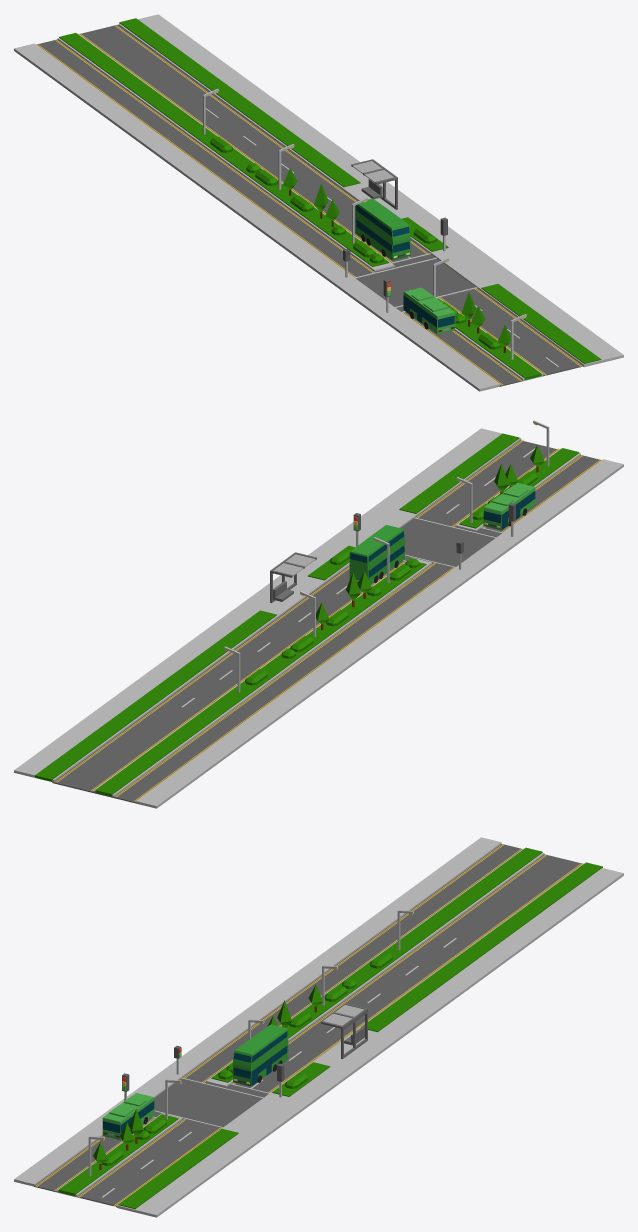
Rendered from L1L2 Street.fbx.
3 views of the same model, one above another, from view 1: azimuth 30°, elevation 25°; view 2: azimuth 150°, elevation 25°; view 3: azimuth 330°, elevation 25° (orthographic).
Visible parts, largest first — view 1: pCube1696, pCube2177, pCube2185, pCube1751, pCube1767, pasted__pCube100, pCube1756, pCube1754, pasted__pCube102, pCube1730, pCube1765; view 2: pCube1696, pCube2177, pCube2185, pCube1751, pCube1767, pasted__pCube100, pCube1756, pCube1754, pasted__pCube102, pCube1730, pCube1765; view 3: pCube1696, pCube2177, pCube2185, pCube1767, pCube1751, pasted__pCube100, pCube1756, pCube1754, pCube1730, pasted__pCube102, pCube1765, pCube1716 (+1 smaller).
Part boxes in pixels (<box>): pCube1696: <box>36,24,583,386</box>; pCube2177: <box>118,14,623,367</box>; pCube2185: <box>14,43,499,391</box>; pCube1751: <box>59,33,389,266</box>; pCube1767: <box>119,18,360,187</box>; pasted__pCube100: <box>355,198,410,260</box>; pCube1756: <box>481,284,601,363</box>; pCube1754: <box>57,33,394,271</box>; pasted__pCube102: <box>403,287,455,334</box>; pCube1730: <box>437,298,541,379</box>; pCube1765: <box>351,159,397,209</box>; pCube1696: <box>52,440,600,803</box>; pCube2177: <box>14,428,521,781</box>; pCube2185: <box>136,459,623,808</box>; pCube1751: <box>95,562,426,796</box>; pCube1767: <box>35,610,276,781</box>; pasted__pCube100: <box>349,525,405,584</box>; pCube1756: <box>399,433,519,513</box>; pCube1754: <box>93,557,431,796</box>; pasted__pCube102: <box>483,482,535,530</box>; pCube1730: <box>459,448,579,528</box>; pCube1765: <box>270,552,316,602</box>; pCube1696: <box>33,844,582,1206</box>; pCube2177: <box>116,863,623,1217</box>; pCube2185: <box>14,837,501,1186</box>; pCube1767: <box>361,862,602,1032</box>; pCube1751: <box>211,847,542,1082</box>; pasted__pCube100: <box>232,1024,288,1086</box>; pCube1756: <box>118,1129,238,1208</box>; pCube1754: <box>206,848,544,1087</box>; pCube1730: <box>58,1114,178,1195</box>; pasted__pCube102: <box>102,1093,154,1140</box>; pCube1765: <box>321,1003,367,1058</box>; pCube1716: <box>57,1113,182,1197</box>.
Bounding box in the file's own units: 7.13 × 2.14 × 40.25.
1 material, 1 textured.
